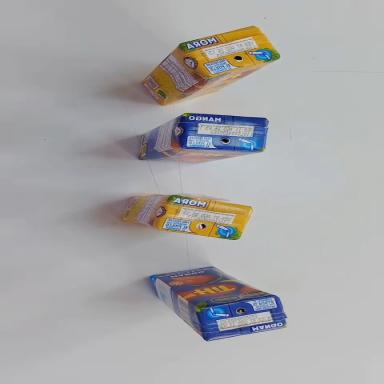HIT-MANGO: (150, 255, 288, 348), (138, 111, 269, 166)
HIT-MORA: (135, 18, 284, 111), (120, 189, 253, 242)
cara_F: (152, 258, 279, 314), (159, 59, 283, 105), (139, 146, 261, 166)
